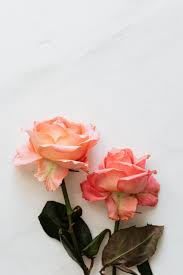lale: (11, 109, 99, 198), (80, 145, 166, 226)
